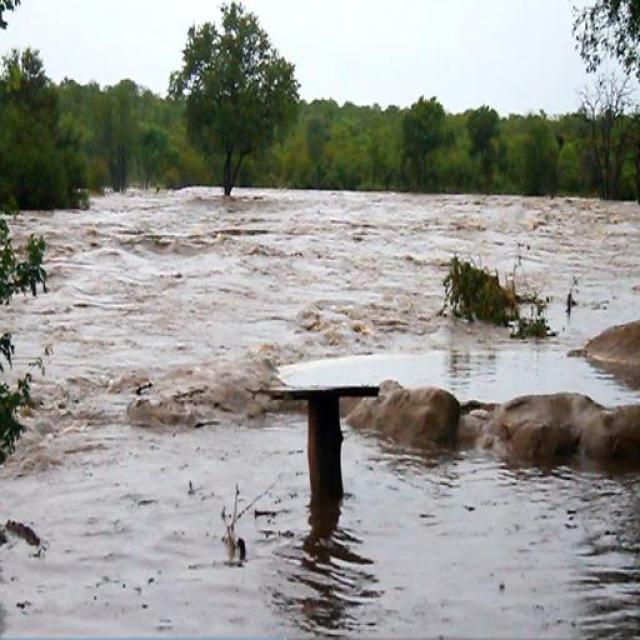puddle: (14, 504, 640, 640), (18, 222, 417, 371), (64, 341, 250, 600), (232, 180, 640, 262)
